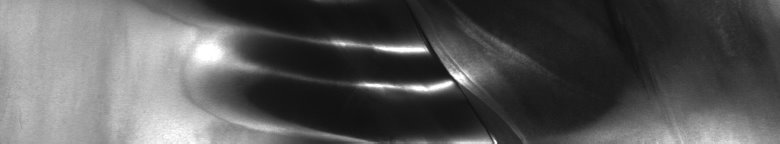ke: (210, 12, 584, 136)
